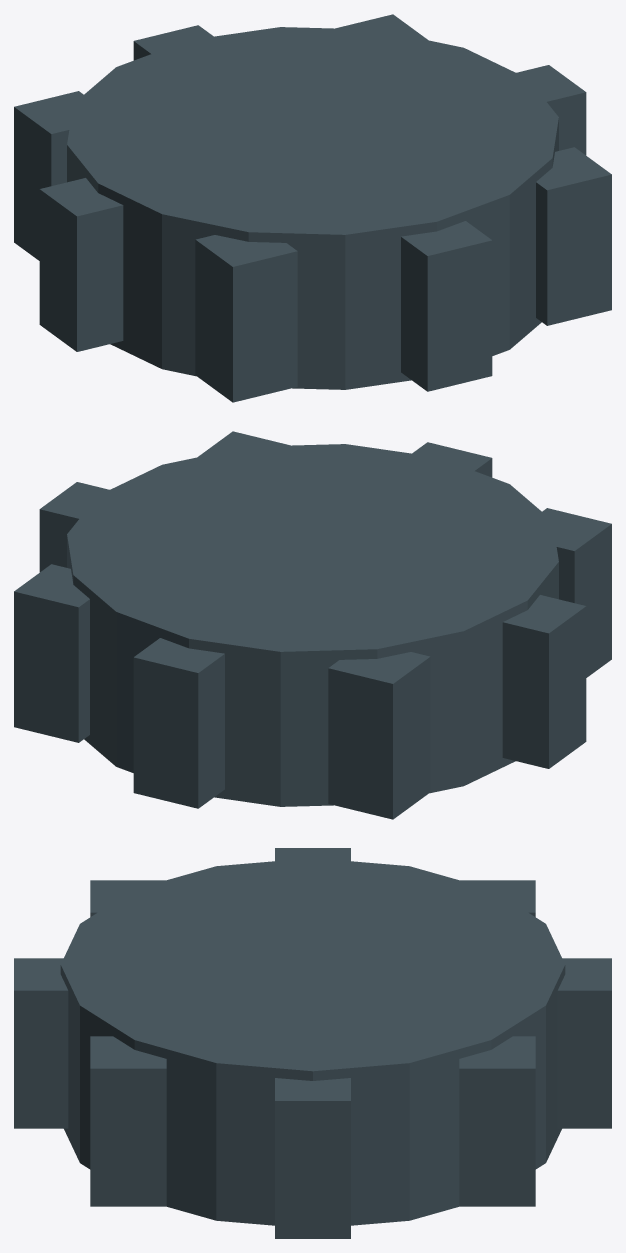
Rendered from set_gear_pair.glb.
3 views of the same model, one above another, from view 1: azimuth 30°, elevation 25°; view 2: azimuth 150°, elevation 25°; view 3: azimuth 270°, elevation 25° (orthographic).
Parts seen in each view (by area): view 1: set_gear_pair; view 2: set_gear_pair; view 3: set_gear_pair.
Boxes of the visible parts, x1,y1,x2,y2 form: set_gear_pair: [14, 14, 611, 402]; set_gear_pair: [14, 431, 611, 819]; set_gear_pair: [14, 848, 611, 1238].
Bounding box in the file's own units: 0.275 × 0.08 × 0.275.
